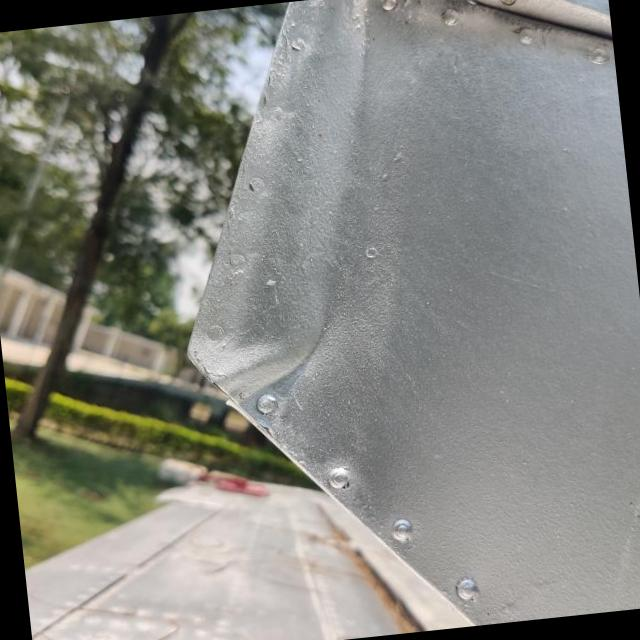Dent: (187, 304, 324, 422)
